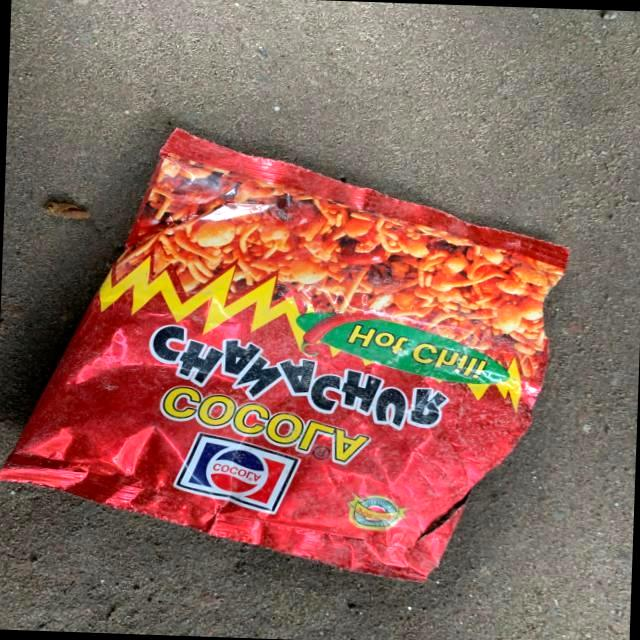packet: (51, 164, 538, 552)
